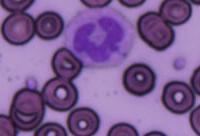N: (64, 4, 136, 68)
